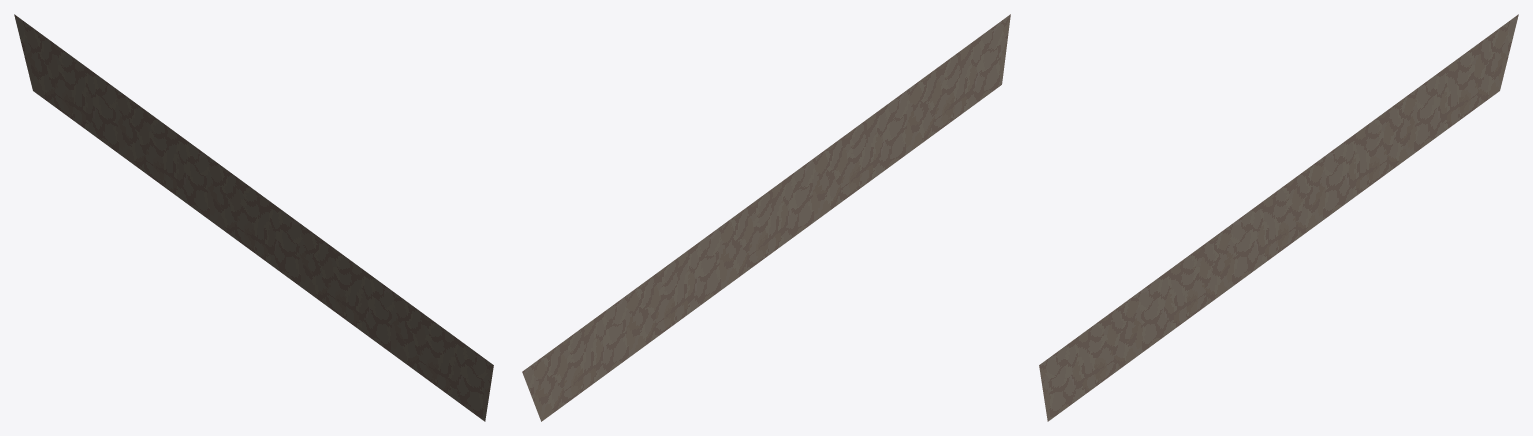
Rendered from kd_stage_135fe0_4_13_bounded.glb.
The picture shows the model from 3 angles, left to right: view 1: azimuth 30°, elevation 25°; view 2: azimuth 150°, elevation 25°; view 3: azimuth 330°, elevation 25°; orthographic projection.
Parts seen in each view (by area): view 1: kd_stage_135fe0_4_13_bounded; view 2: kd_stage_135fe0_4_13_bounded; view 3: kd_stage_135fe0_4_13_bounded.
Boxes of the visible parts, x1=… form: kd_stage_135fe0_4_13_bounded: x1=14, y1=14, x2=493, y2=421; kd_stage_135fe0_4_13_bounded: x1=522, y1=14, x2=1010, y2=421; kd_stage_135fe0_4_13_bounded: x1=1039, y1=14, x2=1518, y2=421.
Bounding box in the file's own units: 0 × 0.8 × 11.03.
1 material, 1 textured.
